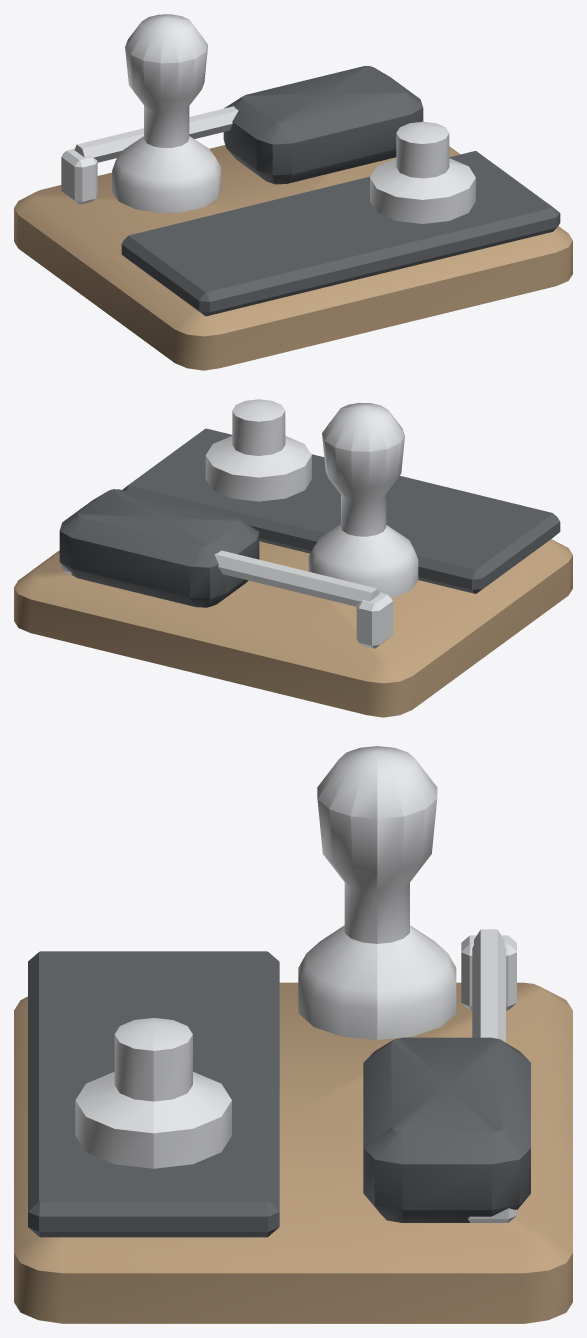
Rendered from bakery-and-cafe-tamper-station-3c6bbd67__22113.glb.
3 views of the same model, one above another, from view 1: azimuth 30°, elevation 25°; view 2: azimuth 150°, elevation 25°; view 3: azimuth 270°, elevation 25° (orthographic). The views are drawn at different scales.
Parts seen in each view (by area): view 1: tamper-station; view 2: tamper-station; view 3: tamper-station.
Part boxes in pixels (bbox=[...]): tamper-station: bbox=[14, 14, 572, 370]; tamper-station: bbox=[14, 399, 572, 717]; tamper-station: bbox=[14, 746, 572, 1323].
Bounding box in the file's own units: 0.24 × 0.149 × 0.2.
